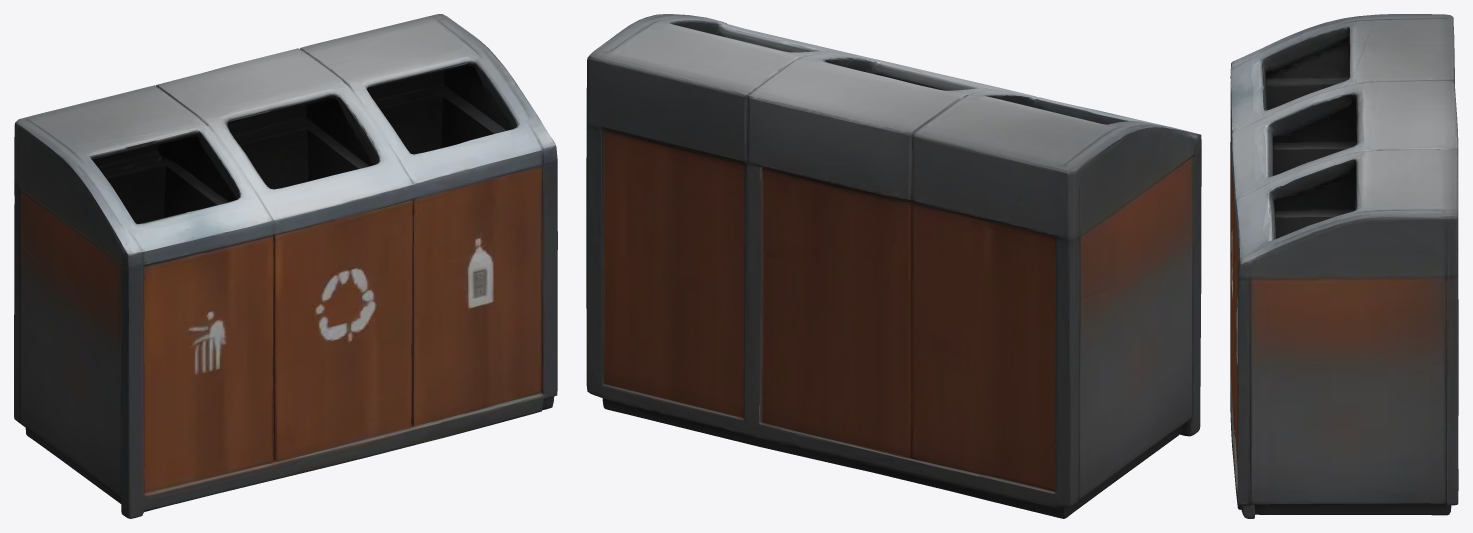
3 views of the same model, side by side, from view 1: azimuth 30°, elevation 25°; view 2: azimuth 150°, elevation 25°; view 3: azimuth 270°, elevation 25° (orthographic). The views are drawn at different scales.
Visible parts, largest first — view 1: geometry_0; view 2: geometry_0; view 3: geometry_0.
Boxes of the visible parts, left/top/right/bottom form: geometry_0: left=14, top=14, right=557, bottom=518; geometry_0: left=586, top=14, right=1201, bottom=518; geometry_0: left=1230, top=14, right=1458, bottom=518.
Bounding box in the file's own units: 0.9974 × 0.6956 × 0.4727.
1 material, 1 textured.
